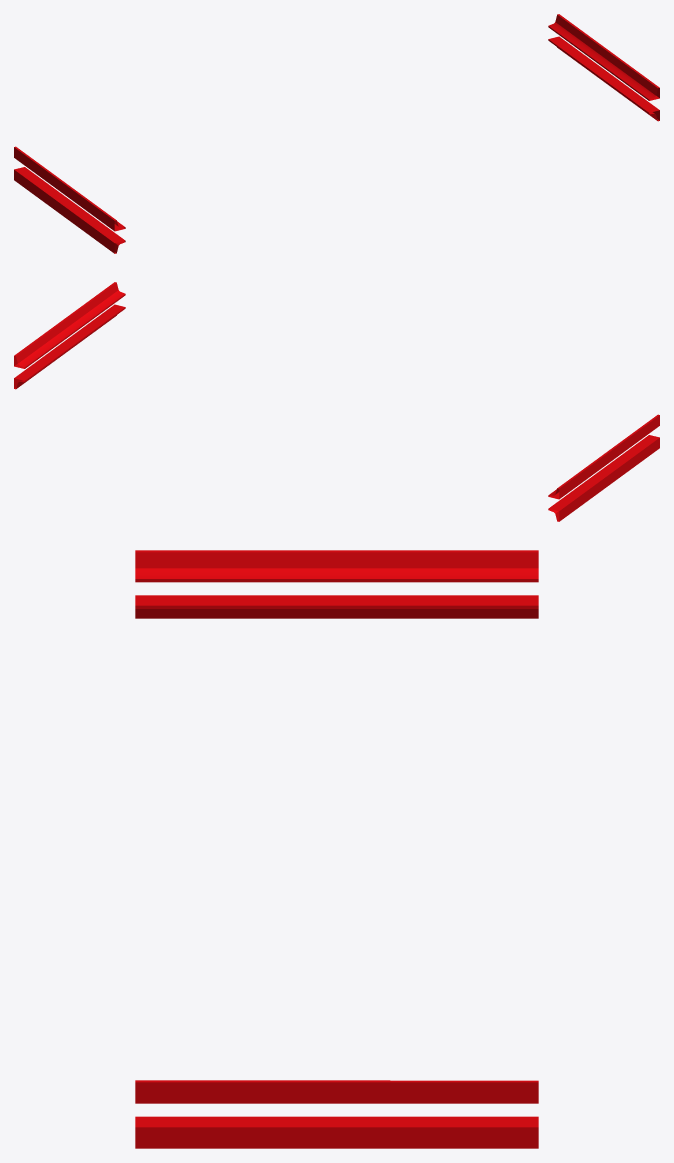
File: overhead_crane_rails.fbx
3 renders of one model, top to bottom at view 1: azimuth 30°, elevation 25°; view 2: azimuth 150°, elevation 25°; view 3: azimuth 270°, elevation 25°, orthographic. The views are drawn at different scales.
Visible parts, largest first — view 1: overhead_crane_rails.001; view 2: overhead_crane_rails.001; view 3: overhead_crane_rails.001.
Boxes of the visible parts, x1=… form: overhead_crane_rails.001: x1=14, y1=14, x2=659, y2=253; overhead_crane_rails.001: x1=14, y1=282, x2=659, y2=521; overhead_crane_rails.001: x1=135, y1=550, x2=538, y2=1148.
Size of the model in its own units: 1249 by 72.59 by 400.
